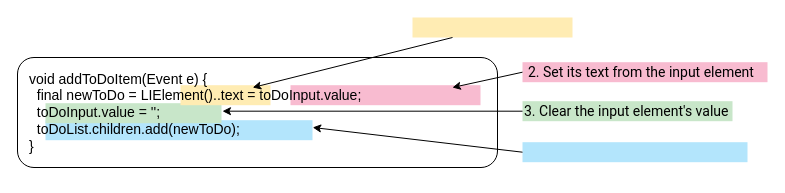
Image size: 785x193. Some labels were removed from this diagram. Here are the shapes that lost their labels. From the top down, the centre of each, then its label:
the point at 492,27: 1. Create a new element
the point at 634,152: 4. Put the new element in the DOM
